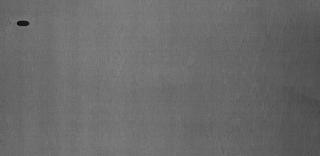punching hole: (15, 18, 33, 28)
